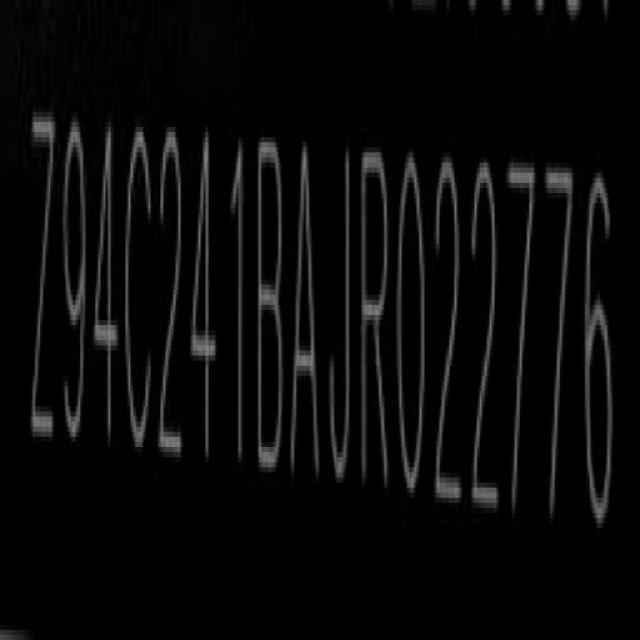0: (396, 149, 428, 505)
1: (226, 128, 248, 480)
2: (433, 146, 464, 516), (468, 158, 499, 526), (158, 116, 188, 472)
4: (192, 125, 222, 478), (94, 112, 122, 457)
6: (586, 170, 618, 532)
7: (507, 150, 540, 531), (544, 156, 576, 535)
9: (62, 114, 90, 457)
A: (292, 135, 324, 487)
B: (257, 132, 287, 478)
C: (124, 123, 158, 467)
J: (327, 142, 355, 488)
R: (361, 147, 392, 495)
Z: (27, 106, 58, 460)
